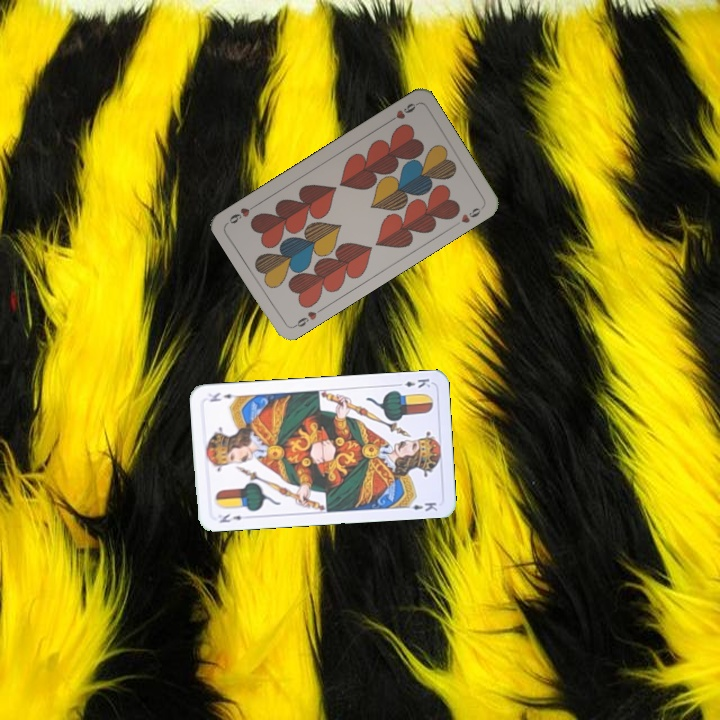EK: (392, 374, 433, 391), (215, 510, 244, 525)
H9: (383, 99, 420, 126), (289, 304, 326, 330)
